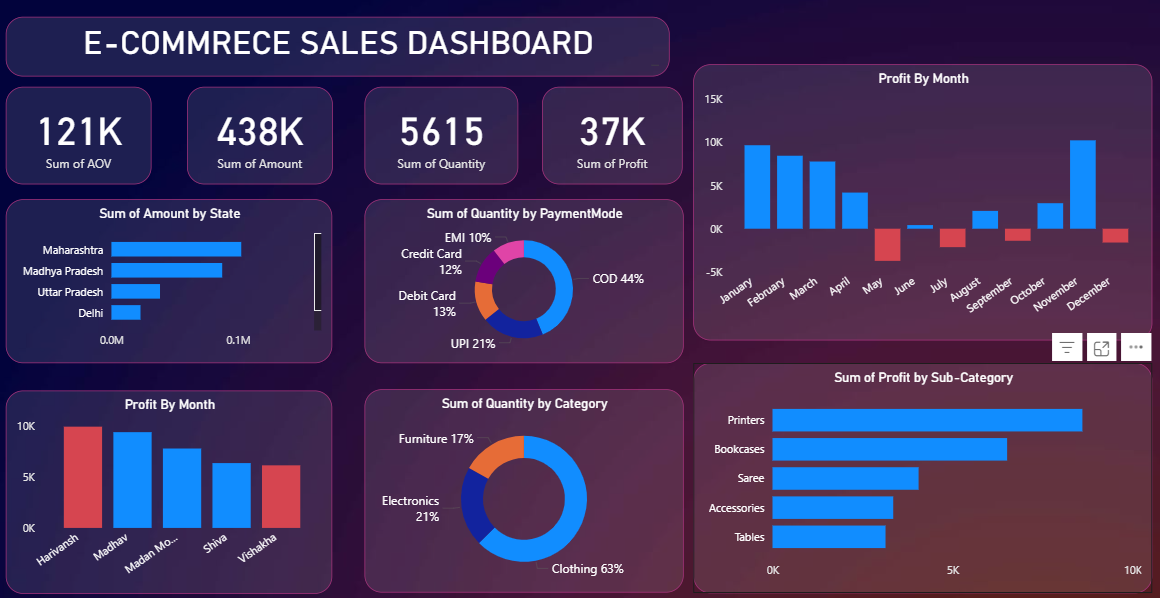

The page's visual inventory and layout, read from the dashboard file:
{"tool":"powerbi","page":{"name":"Page 1","canvas":[1280,720],"ordinal":0},"visuals":[{"type":"columnChart","title":"Profit By Month","fields":{"Category":["Orders.Order Date.Variation.Date Hierarchy.Month"],"Y":["Sum(Details.Profit)"]},"box":[764.3,94.3,504.3,302.9],"z":0},{"type":"barChart","fields":{"Category":["Details.Sub-Category"],"Y":["Sum(Details.Profit)"]},"box":[764.3,422.9,504.3,252.9],"z":1000},{"type":"donutChart","fields":{"Category":["Details.Category"],"Y":["Sum(Details.Quantity)"]},"box":[403,452,350,223],"z":2000},{"type":"donutChart","fields":{"Y":["Sum(Details.Quantity)"],"Category":["Details.PaymentMode"]},"box":[402.9,242.9,350,180],"z":3000},{"type":"card","fields":{"Values":["Sum(Details.Amount)"]},"box":[208.6,120,160,107.1],"z":4000},{"type":"card","fields":{"Values":["Sum(Details.Profit)"]},"box":[598.6,120,154.3,107.1],"z":5000},{"type":"card","fields":{"Values":["Sum(Details.Quantity)"]},"box":[402.9,120,168.6,107.1],"z":6000},{"type":"card","fields":{"Values":["Sum(Details.AOB)"]},"box":[10,120,160,107.1],"z":7000},{"type":"barChart","fields":{"Category":["Orders.State"],"Y":["Sum(Details.Amount)"]},"box":[10,242.9,358.6,180],"z":8000},{"type":"columnChart","title":"Profit By Month","fields":{"Y":["Sum(Details.Amount)"],"Category":["Orders.CustomerName"]},"box":[10,452.9,358.6,222.9],"z":9000},{"type":"textbox","title":"E-COMMRECE SALES DASHBOARD","box":[24.3,38.6,728.6,65.7],"z":10000}]}

Visuals, with their boxes on the page's 1280x720 design canvas (x1, y1, x2, y2). These are canvas units, not pixel positions in the 1160x598 screenshot, which may show the page scaled, cropped or inside an application window:
"Profit By Month" columnChart: crop(764, 94, 1269, 397)
barChart - Details.Sub-Category x Sum(Details.Profit): crop(764, 423, 1269, 676)
donutChart - Details.Category x Sum(Details.Quantity): crop(403, 452, 753, 675)
donutChart - Sum(Details.Quantity) x Details.PaymentMode: crop(403, 243, 753, 423)
card - Sum(Details.Amount): crop(209, 120, 369, 227)
card - Sum(Details.Profit): crop(599, 120, 753, 227)
card - Sum(Details.Quantity): crop(403, 120, 572, 227)
card - Sum(Details.AOB): crop(10, 120, 170, 227)
barChart - Orders.State x Sum(Details.Amount): crop(10, 243, 369, 423)
"Profit By Month" columnChart: crop(10, 453, 369, 676)
"E-COMMRECE SALES DASHBOARD" textbox: crop(24, 39, 753, 104)
